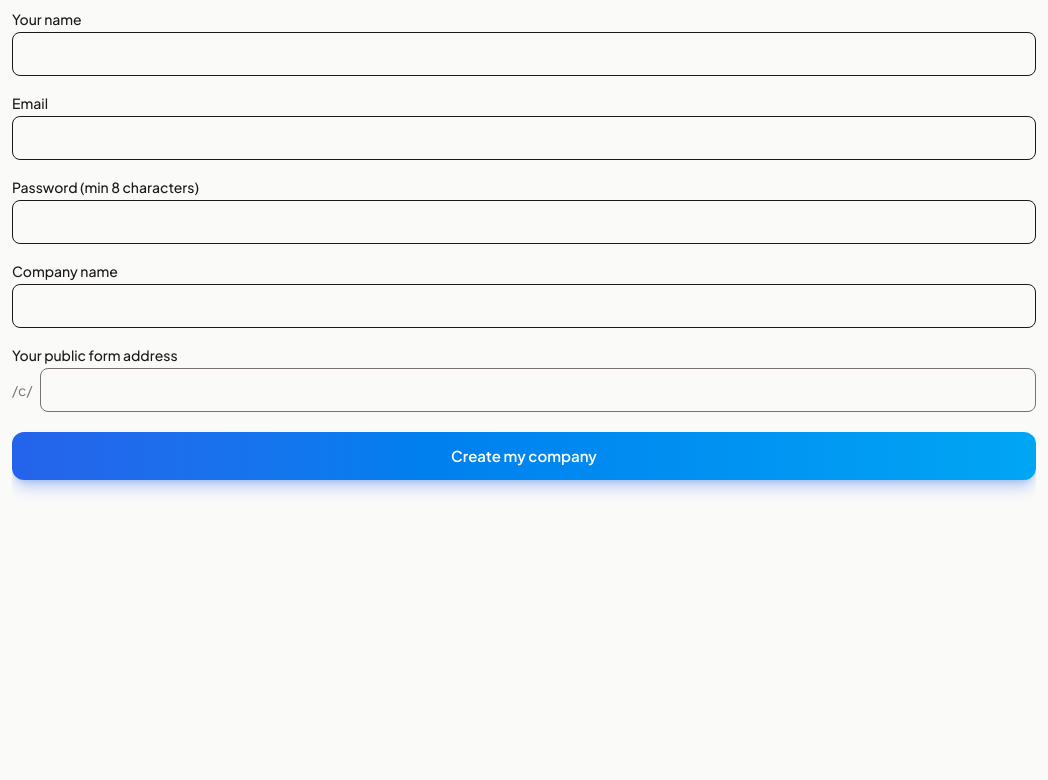
it: SignupForm › uses a generic message when the error body is unreadable
Type "Eren" into the field labelled "Your name" at (524, 54), box [12,32,1036,76]
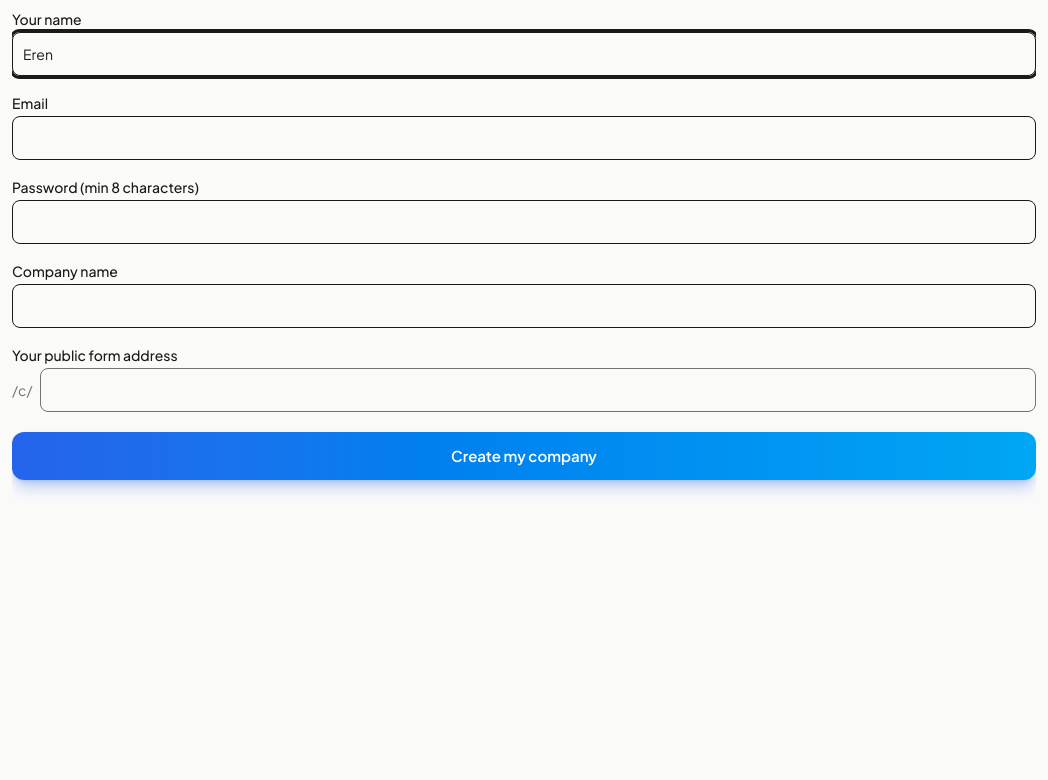
Type "e@x.com" into the field labelled "Email" at (524, 138), box [12,116,1036,160]
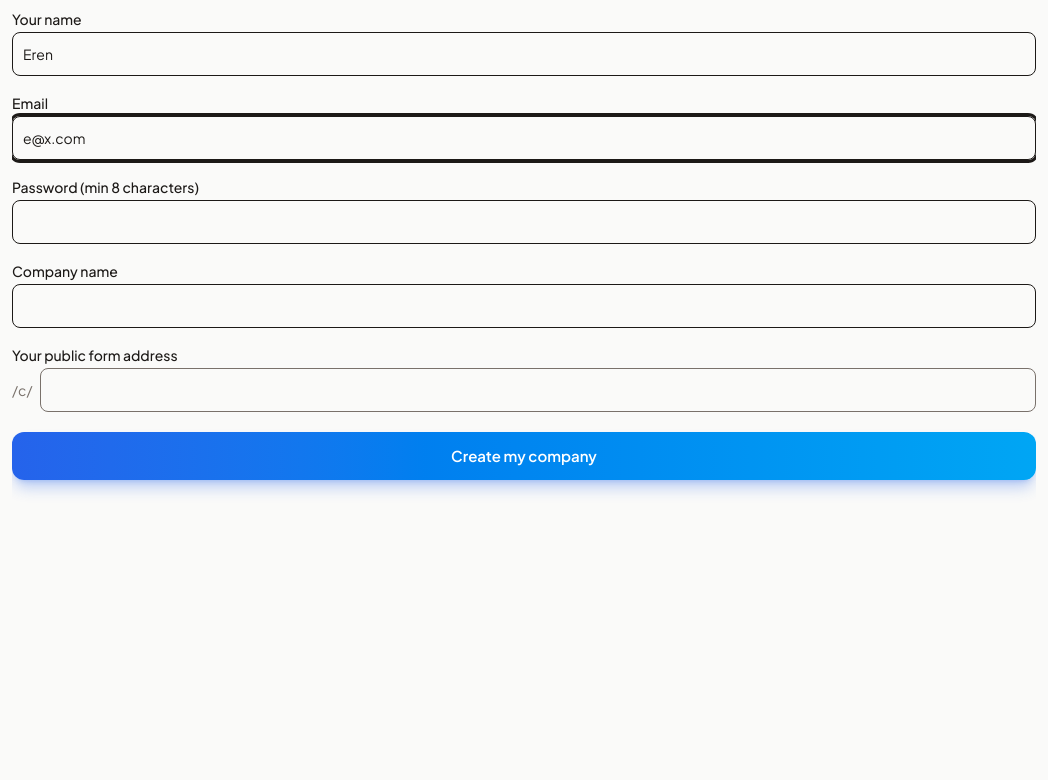
Type "password123" into the password field labelled "Password (min 8 characters)" at (524, 222), box [12,200,1036,244]
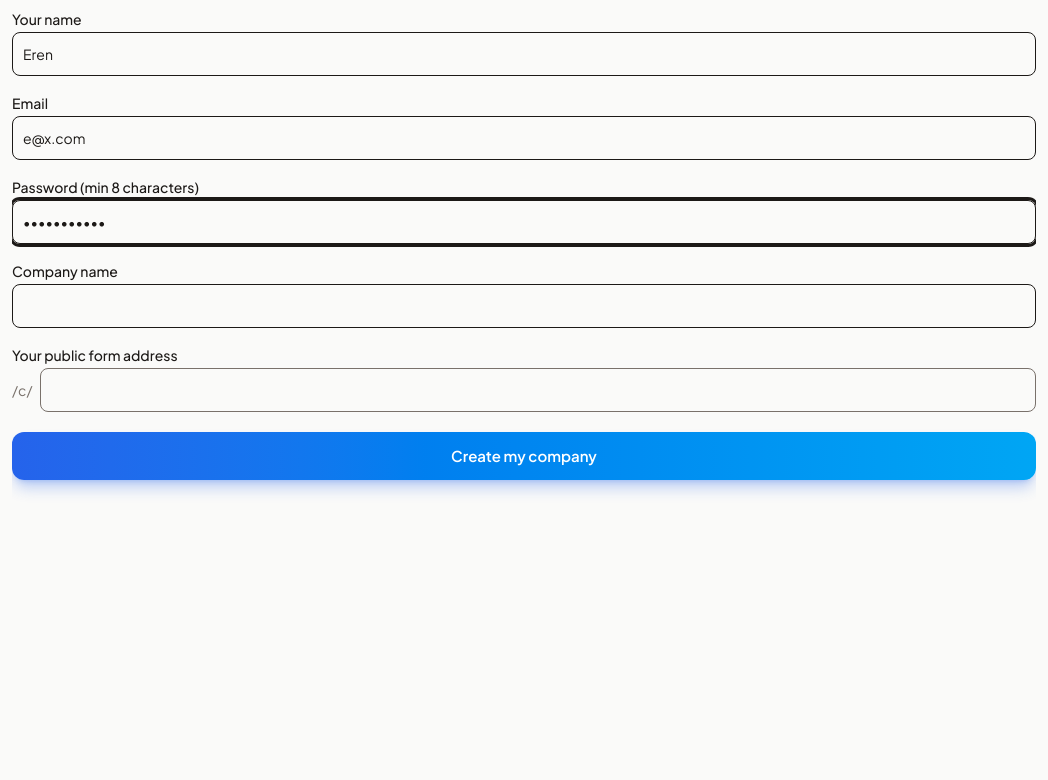
Type "TM Construction" into the field labelled "Company name" at (524, 306), box [12,284,1036,328]
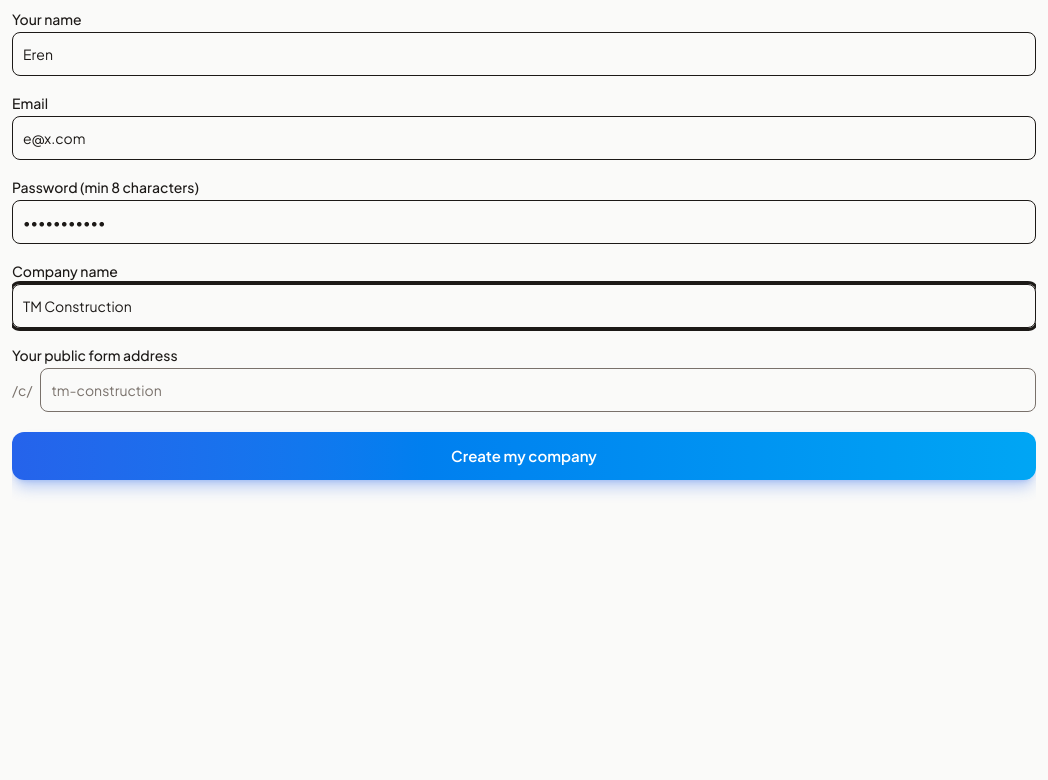
Click the button "Create my company" at (524, 456), box [12,432,1036,480]
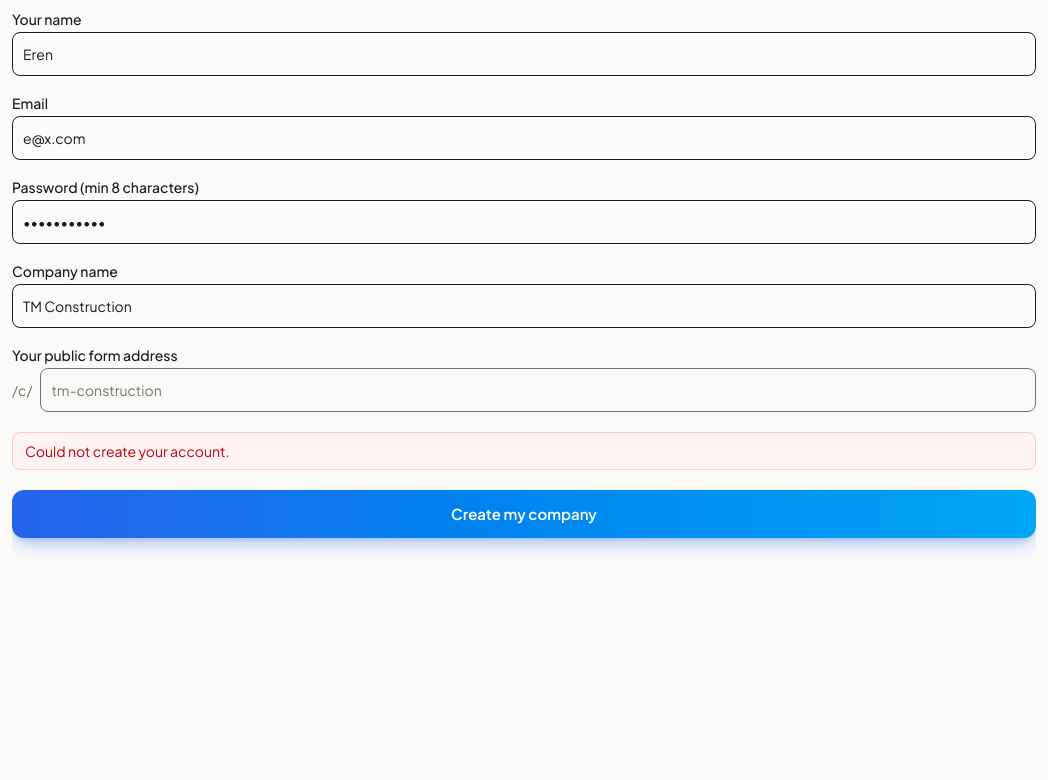
Result: the text "Could not create your account." is shown at [12,432,1036,470]
